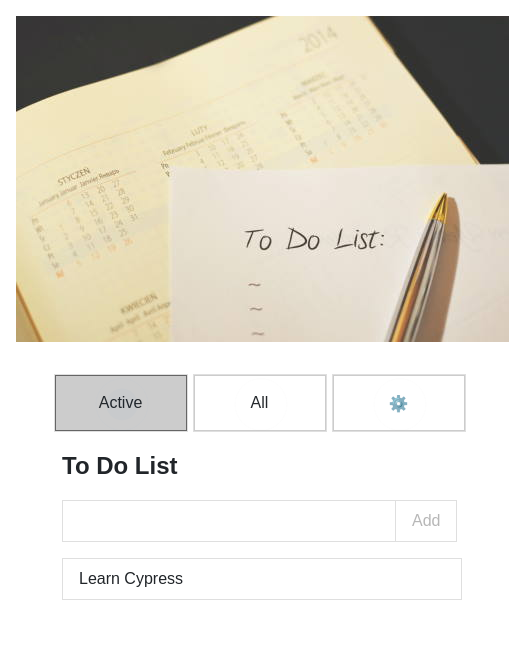
Test: To Do List › Can add a new to-do in steps
Type "A " into the 1st field with test id "new-todo" at coordinates (229, 521), box [62, 500, 396, 542]
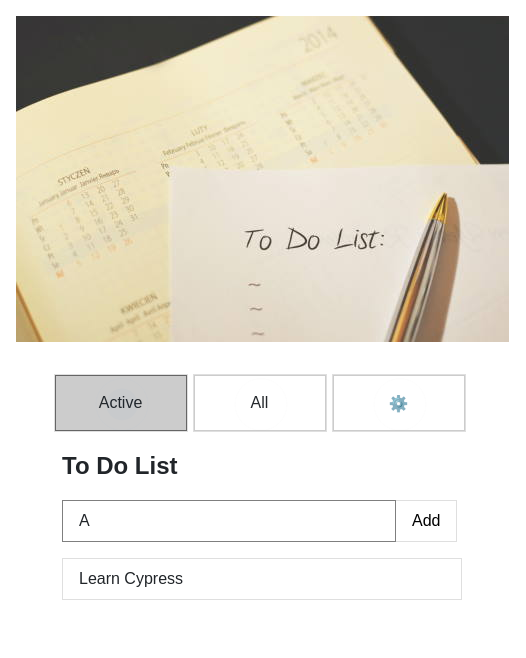
Type "to-do " into the 1st field with test id "new-todo" at coordinates (229, 521), box [62, 500, 396, 542]
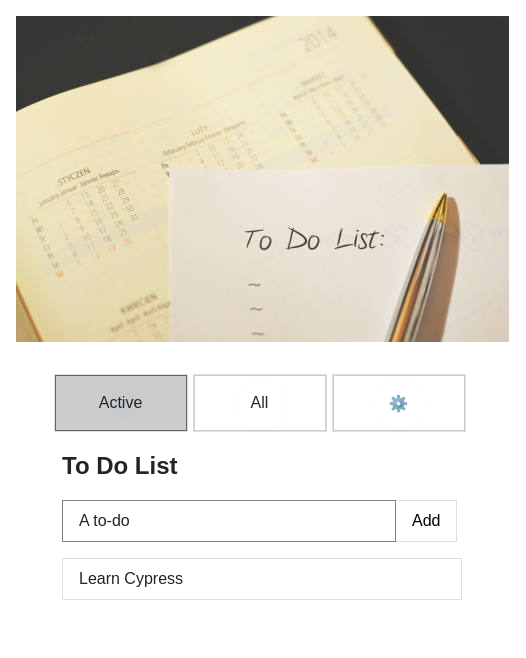
Type "in " into the 1st field with test id "new-todo" at coordinates (229, 521), box [62, 500, 396, 542]
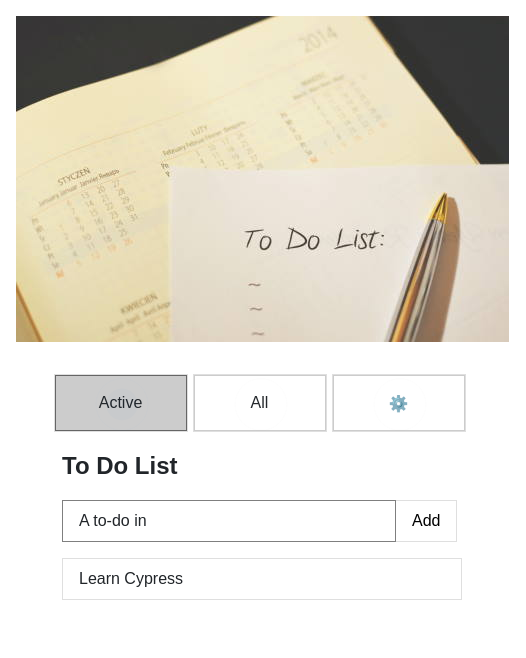
Type "steps" into the 1st field with test id "new-todo" at coordinates (229, 521), box [62, 500, 396, 542]
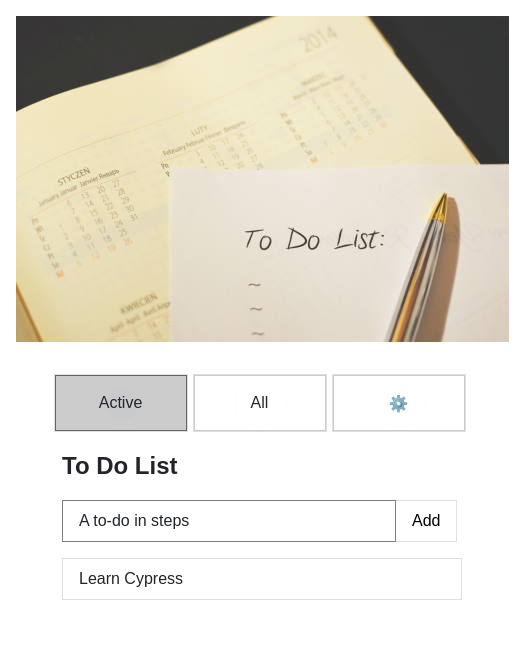
Click the button with test id "btn-add-todo" at coordinates (427, 521), box [395, 500, 458, 542]
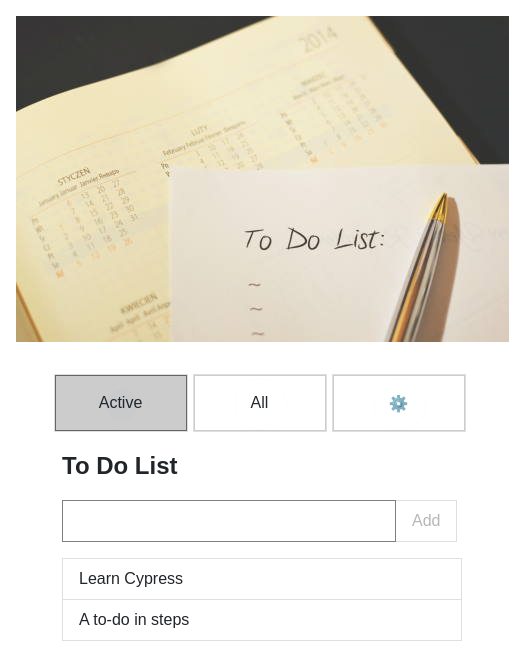
Result: the list item "A to-do in steps" is shown at [62, 600, 462, 641]
